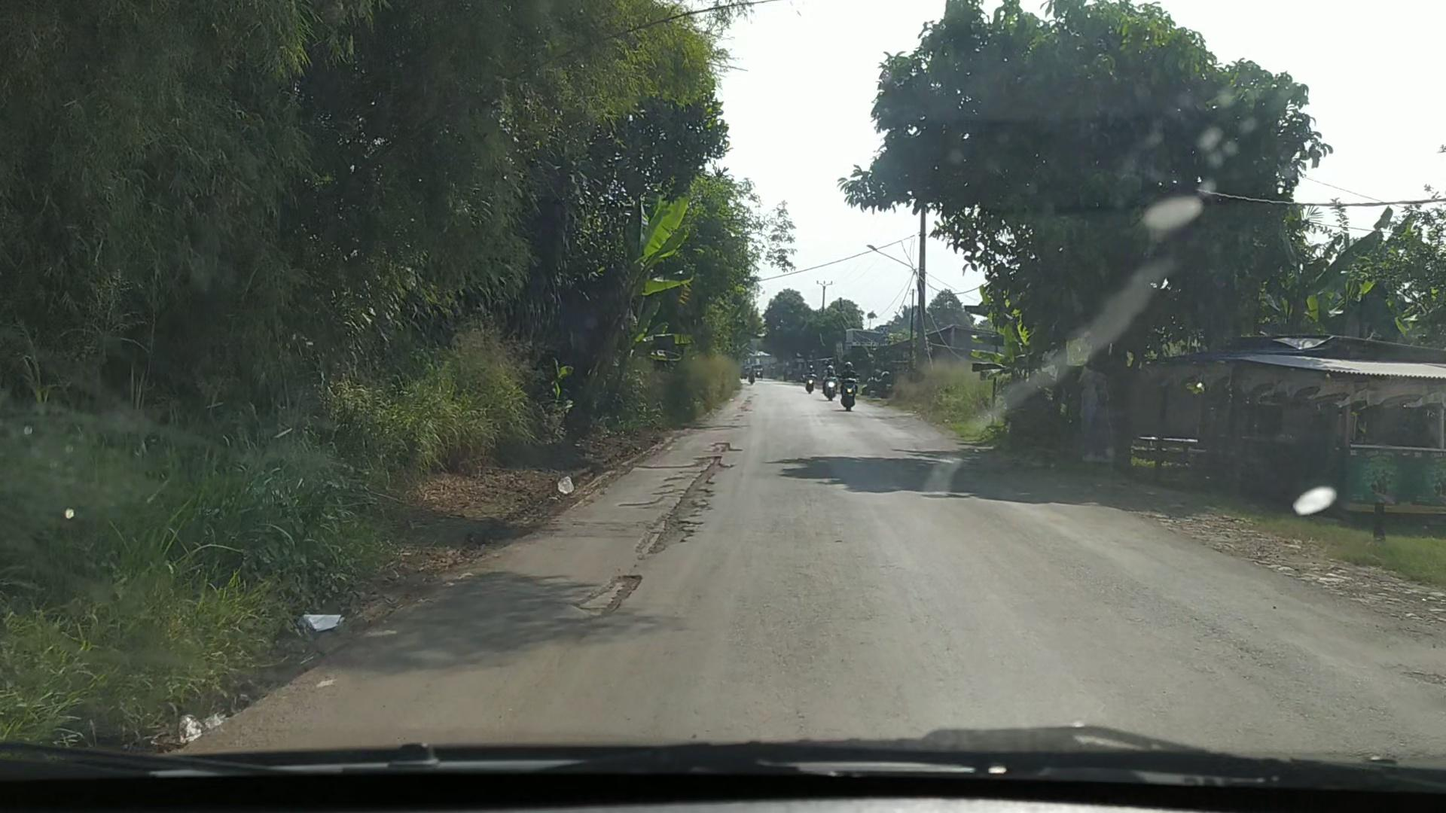pothole: (631, 454, 739, 563), (571, 572, 645, 618), (703, 441, 744, 452)
